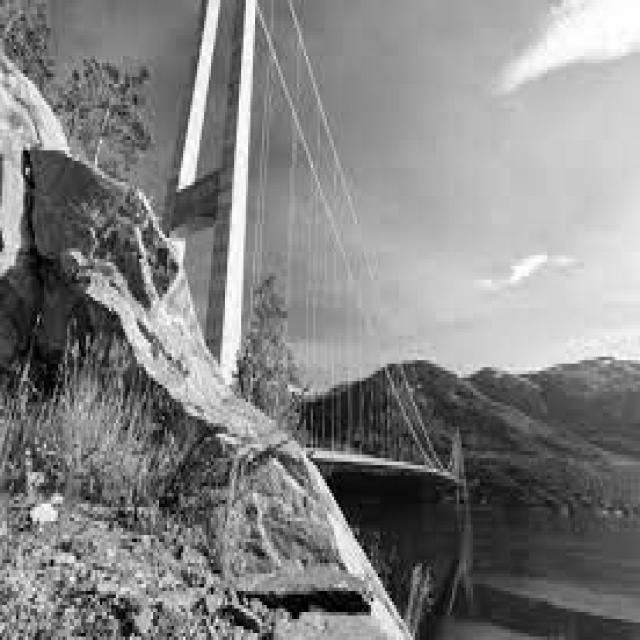Bridges: (127, 1, 456, 568)
